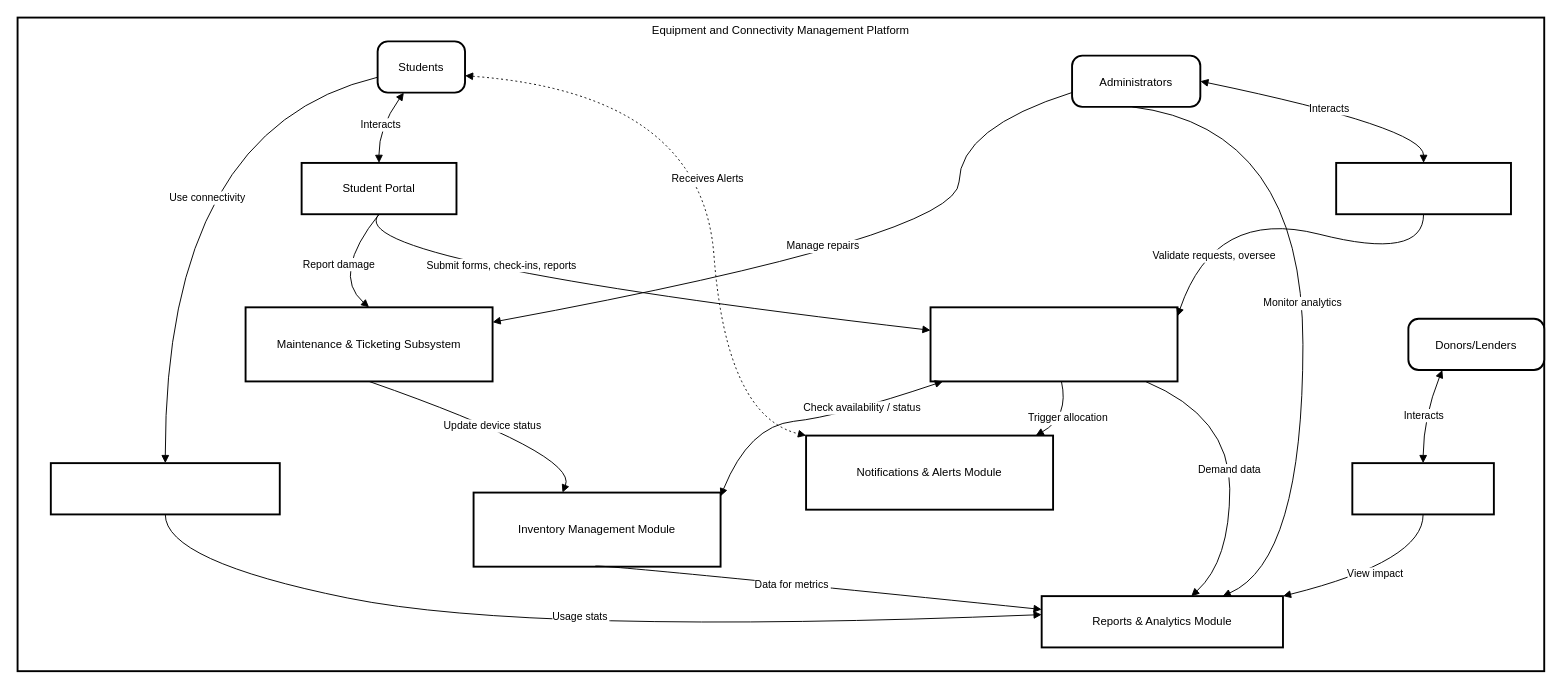
This 1561x688 diagram has some shape labels left out. The centre of each missing label's shape, as x and y in pixels:
"Admin Dashboard" belongs at (x=1423, y=188).
"Connectivity Pool Module" belongs at (x=164, y=488).
"Donor Portal" belongs at (x=1422, y=488).
"Requests & Allocation Module" belongs at (x=1053, y=344).
